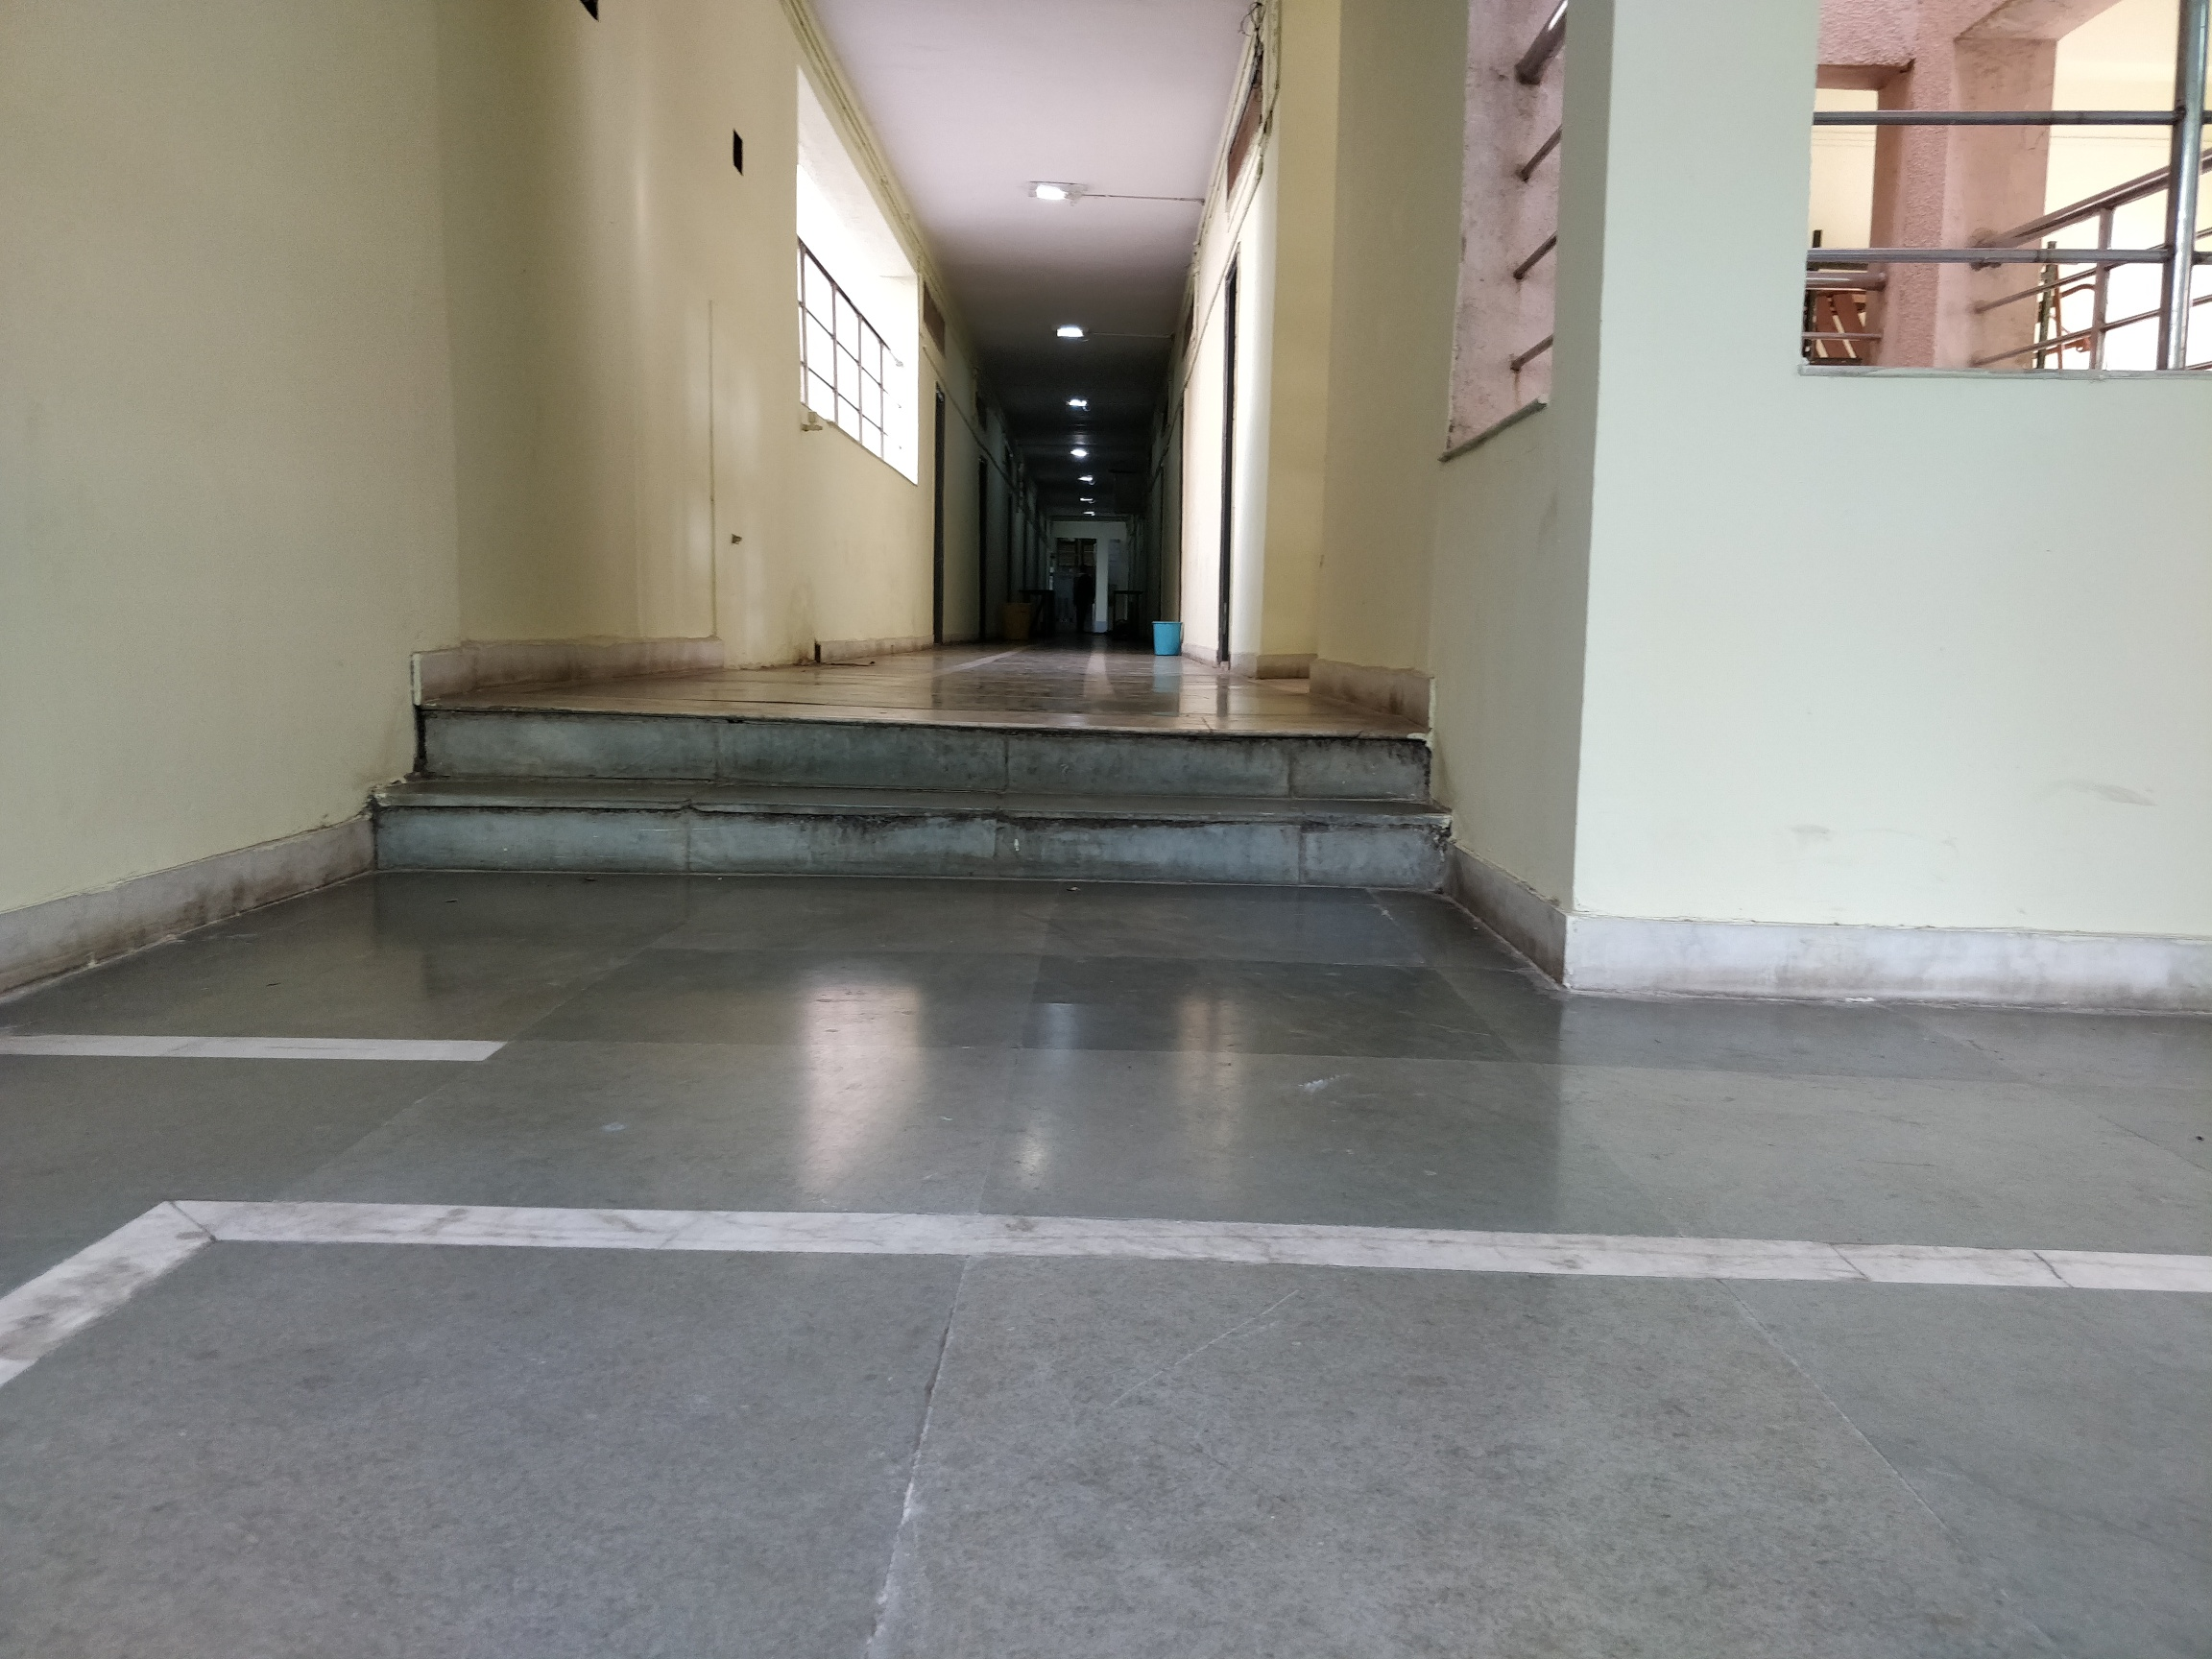stairs_up: (366, 704, 1456, 906)
